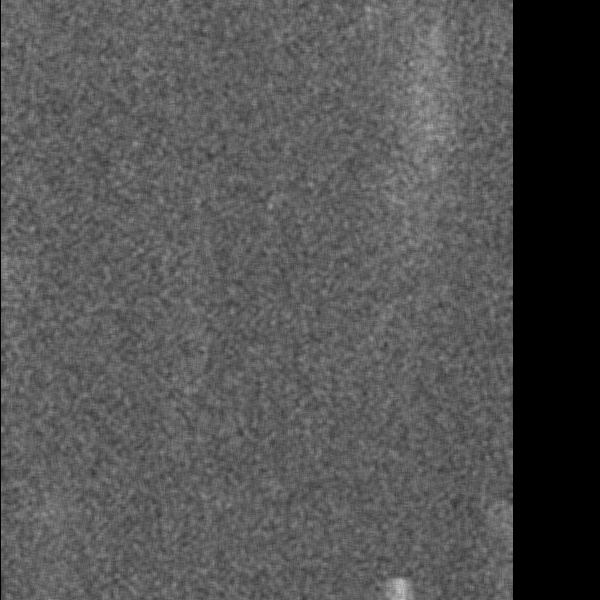spark: (404, 80, 427, 102)
